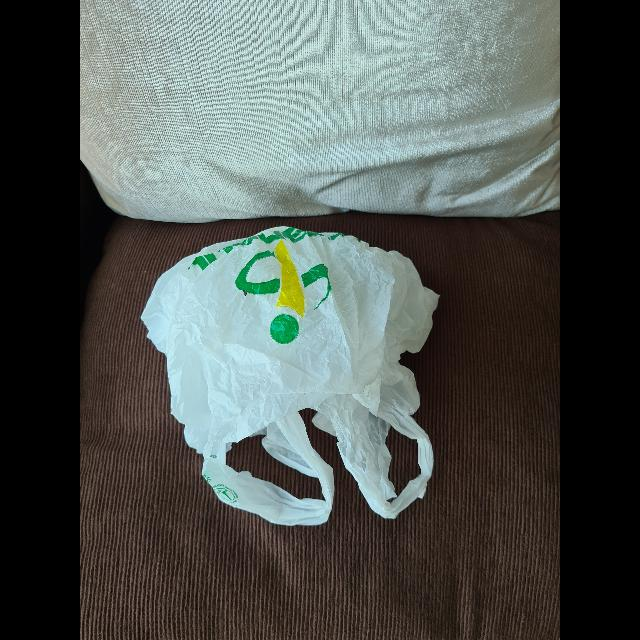plastic_bag: (146, 224, 442, 524)
